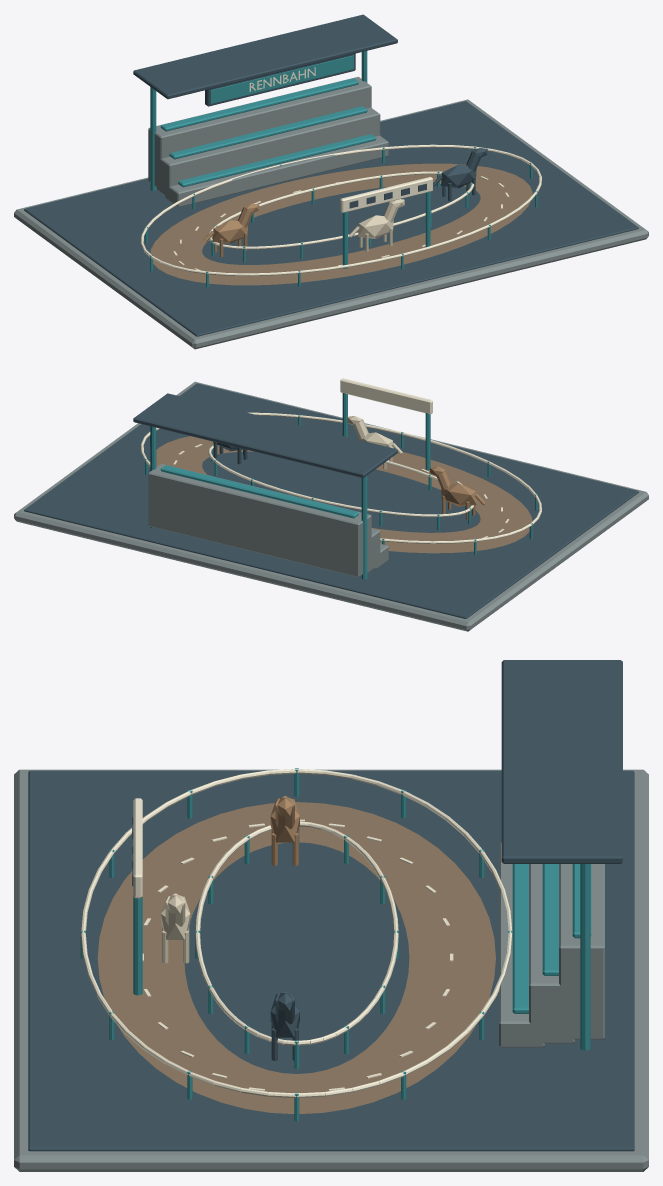
Rendered from racetrack.glb.
The picture shows the model from 3 angles, top to bottom: view 1: azimuth 30°, elevation 25°; view 2: azimuth 150°, elevation 25°; view 3: azimuth 270°, elevation 25°; orthographic projection. The views are drawn at different scales.
Parts seen in each view (by area): view 1: racetrack; view 2: racetrack; view 3: racetrack.
Part boxes in pixels (x1,y1,x2,y2): racetrack: (14, 14, 648, 349); racetrack: (14, 378, 648, 631); racetrack: (14, 660, 648, 1171).
Size of the model in its own units: 16 by 4.22 by 11.
